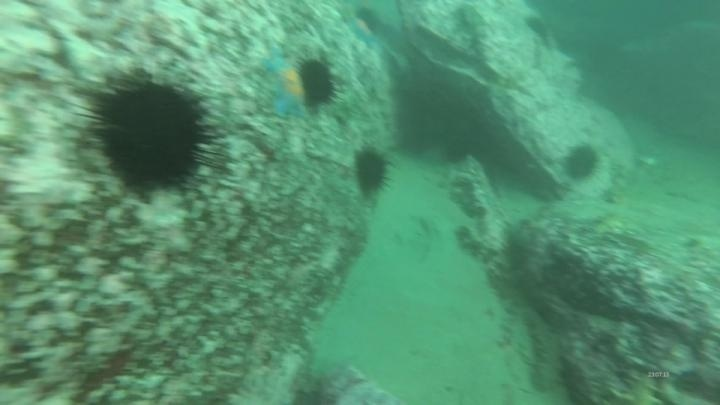echinus: (80, 69, 221, 199), (295, 55, 340, 110), (350, 145, 394, 199), (561, 142, 602, 184)
holothurian: (524, 316, 567, 397)
starfish: (260, 50, 311, 122), (342, 13, 382, 51)
